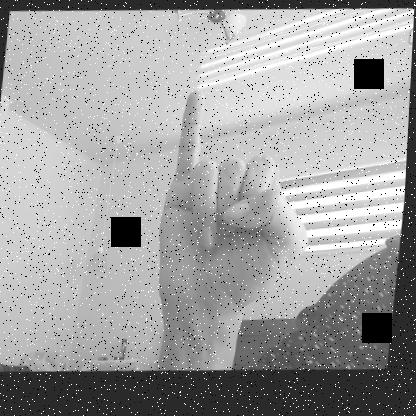I: (151, 82, 327, 324)
